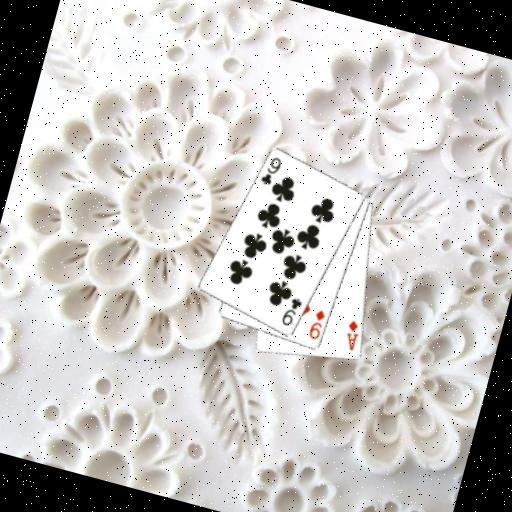9C: (277, 292, 305, 330), (257, 151, 285, 189)
9D: (304, 304, 328, 342)
AD: (339, 316, 364, 353)
